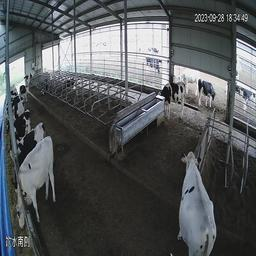cow: (170, 136, 221, 251), (16, 138, 60, 227), (157, 76, 188, 122), (7, 120, 46, 150), (194, 79, 217, 110), (7, 102, 29, 122), (4, 88, 23, 106), (62, 73, 77, 91)
